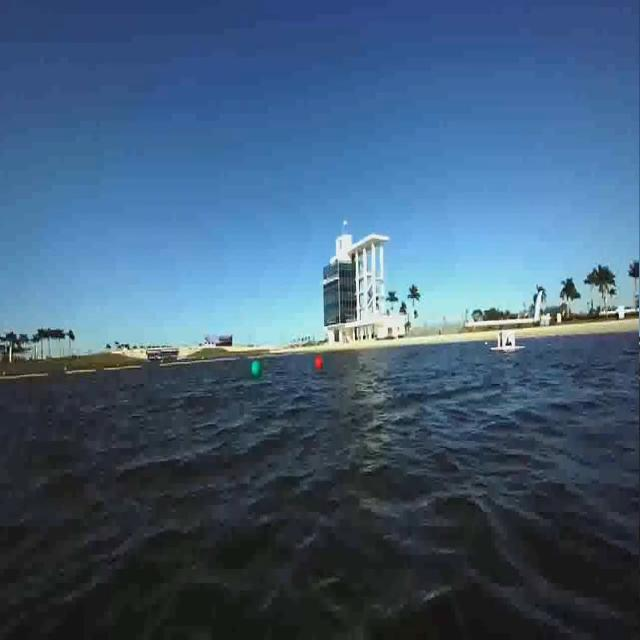green-buoy: (249, 358, 263, 378)
red-buoy: (316, 355, 323, 370)
